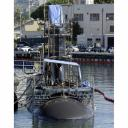submarine: (27, 27, 94, 121)
